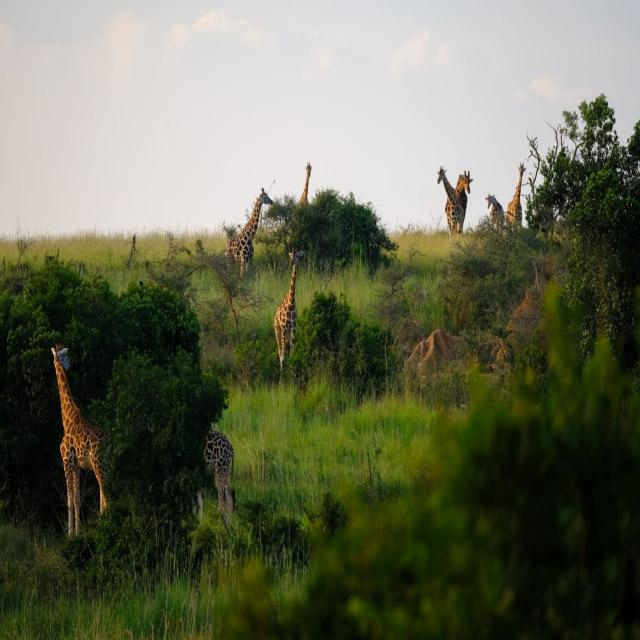Giraffe: (50, 343, 108, 538), (187, 424, 238, 531), (225, 188, 273, 280), (274, 245, 304, 383), (437, 164, 464, 243), (445, 170, 474, 238), (506, 162, 527, 230), (485, 193, 505, 230), (298, 161, 312, 207)
